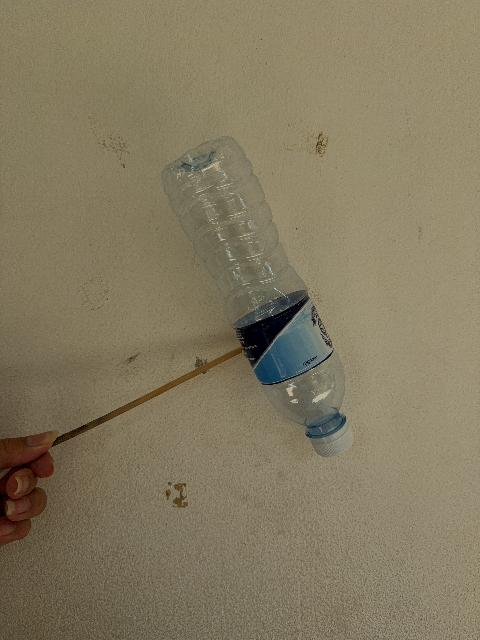bottle: (161, 137, 352, 456)
